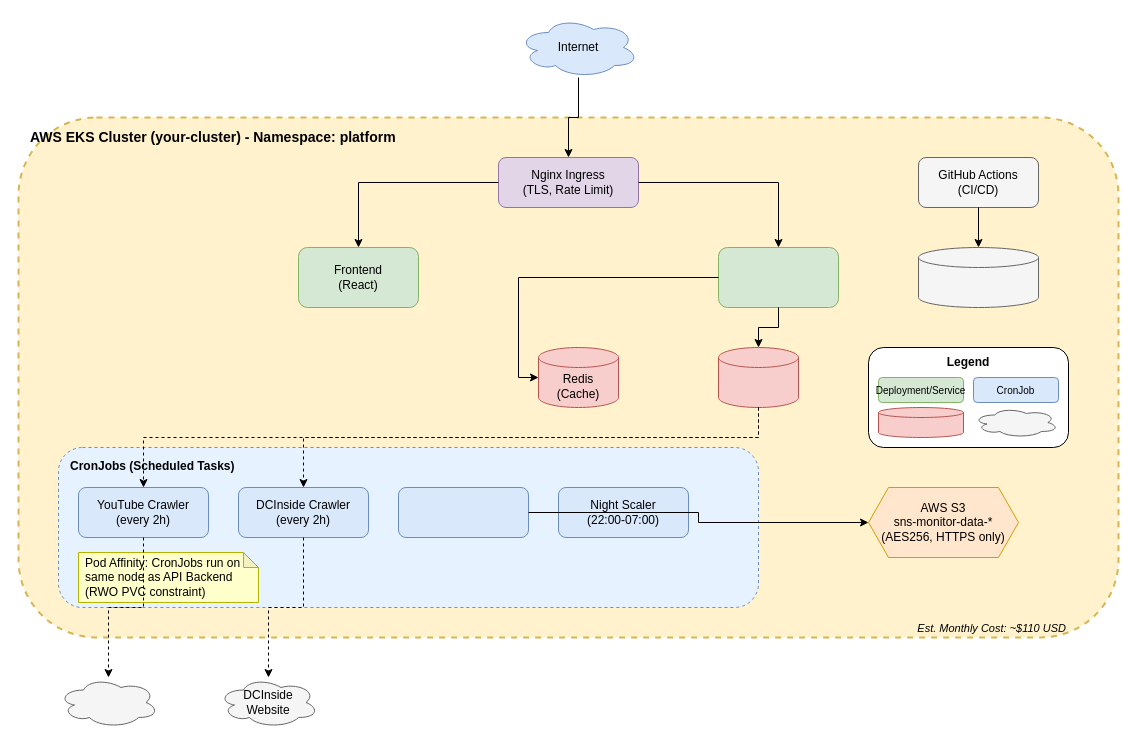
Image size: 1136x745. Some labels were removed from this diagram. Here are the shapes that lost their labels. From the top down, the centre of each, then its label:
the point at 778,277: API Backend (Flask)
the point at 978,277: GHCR (Container Registry)
the point at 758,377: PVC (local-data)
the point at 921,422: Storage
the point at 1015,422: External
the point at 463,512: S3 Sync (every 6h)
the point at 108,702: YouTube Data API v3
